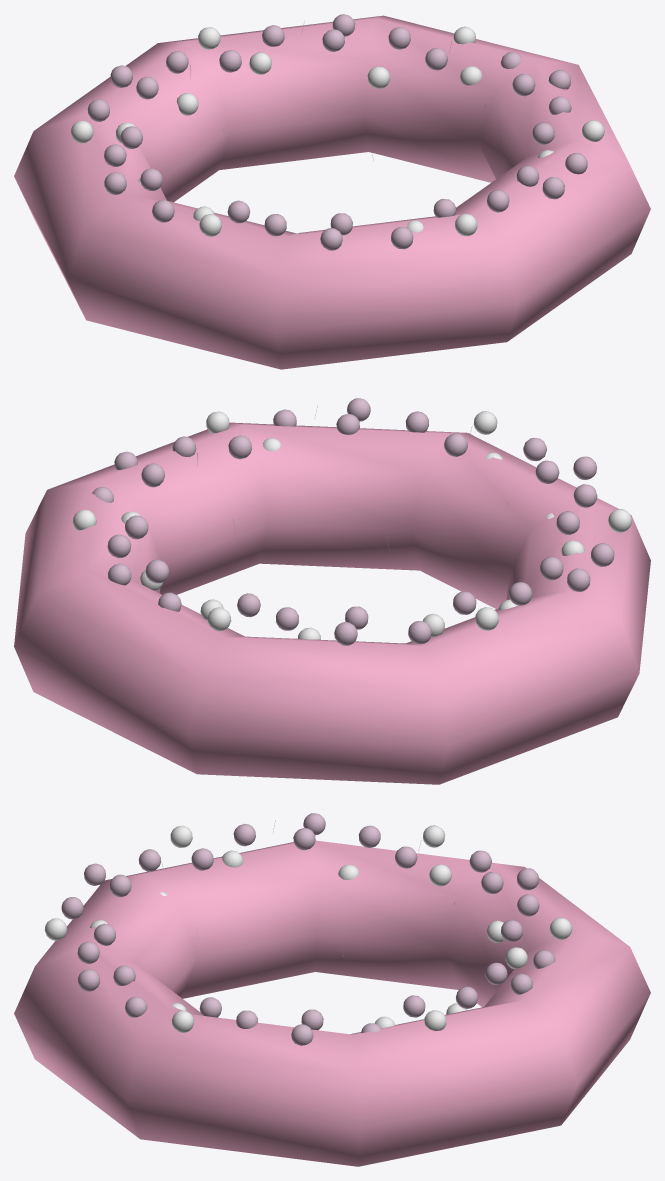
The model's file is Donut.fbx.
The picture shows the model from 3 angles, top to bottom: view 1: azimuth 30°, elevation 25°; view 2: azimuth 150°, elevation 25°; view 3: azimuth 270°, elevation 25°; orthographic projection. The views are drawn at different scales.
Visible parts, largest first — view 1: donut; view 2: donut; view 3: donut.
Boxes of the visible parts, x1,y1,x2,y2 form: donut: [14, 14, 650, 369]; donut: [14, 398, 650, 784]; donut: [14, 813, 650, 1166].
Size of the model in its own units: 329 by 108 by 330.
